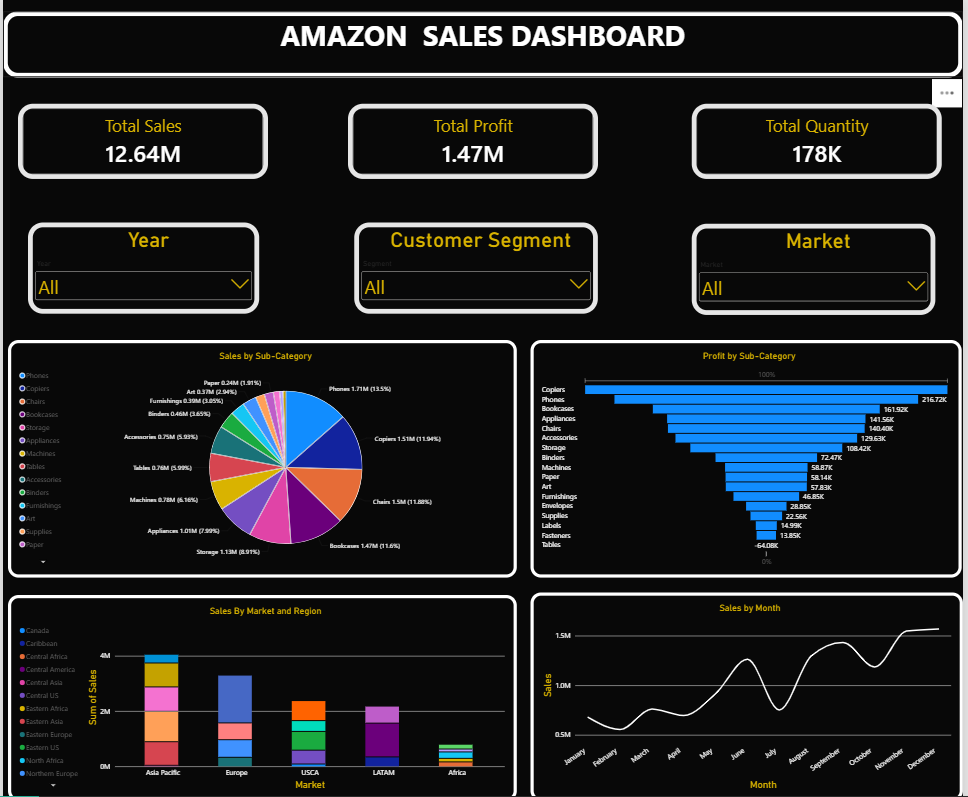

The dashboard page shown, as its layout file describes it:
{"tool":"powerbi","page":{"name":"Amazon Sales Analytics","canvas":[1920,3000],"ordinal":0},"visuals":[{"type":"textbox","box":[0,22.5,1920,132.5],"z":0},{"type":"columnChart","title":"Sales By Market and Region","fields":{"Category":["Orders.Market"],"Series":["Orders.Region"],"Y":["Sum(Orders.Sales)"]},"box":[10,1190,1017.5,412.5],"z":1},{"type":"pieChart","title":"Sales by Sub-Category","fields":{"Category":["Orders.Sub-Category"],"Y":["Sum(Orders.Sales)"]},"box":[10,680,1017.5,475],"z":2},{"type":"donutChart","title":"Quantity by Sub-Category","fields":{"Category":["Orders.Sub-Category"],"Y":["Sum(Orders.Quantity)"]},"box":[20,2070,1887.5,442.5],"z":3},{"type":"funnel","title":"Profit by Sub-Category","fields":{"Category":["Orders.Sub-Category"],"Y":["Sum(Orders.Profit)"]},"box":[1055,680,862.5,475],"z":4},{"type":"lineChart","title":"Sales by Month","fields":{"Category":["Orders.Order Date.Variation.Date Hierarchy.Month"],"Y":["Sum(Orders.Sales)"]},"box":[1055,1185,865,417.5],"z":5},{"type":"cardVisual","title":"Sales","fields":{"Data":["Sum(Orders.Sales)"]},"box":[30,207.5,500,150],"z":6},{"type":"cardVisual","title":"Sales","fields":{"Data":["Sum(Orders.Profit)"]},"box":[690,207.5,500,150],"z":7},{"type":"cardVisual","title":"Sales","fields":{"Data":["Sum(Orders.Quantity)"]},"box":[1377.5,207.5,500,150],"z":8},{"type":"slicer","title":"Year","fields":{"Values":["Orders.Order Date.Variation.Date Hierarchy.Year"]},"box":[50,445,462.5,182.5],"z":9},{"type":"columnChart","title":"Shipping Cost by Ship Mode","fields":{"Category":["Orders.Ship Mode"],"Y":["Sum(Orders.Shipping Cost)"]},"box":[10,1622.5,1017.5,417.5],"z":10},{"type":"donutChart","title":"Profit by Segment","fields":{"Category":["Orders.Segment"],"Y":["Sum(Orders.Profit)"]},"box":[1068.3,1623.3,840,418.3],"z":11},{"type":"slicer","title":"Customer Segment","fields":{"Values":["Orders.Segment"]},"box":[702.5,445,487.5,182.5],"z":13},{"type":"tableEx","fields":{"Values":["Orders.Order ID","Orders.Order Date.Variation.Date Hierarchy.Year","Orders.Order Date.Variation.Date Hierarchy.Quarter","Orders.Order Date.Variation.Date Hierarchy.Month","Orders.Order Date.Variation.Date Hierarchy.Day","Orders.Customer Name","Orders.Product Name","Orders.Sub-Category","Orders.Ship Mode","Orders.Segment","Orders.Market","Orders.Country"]},"box":[50,2531.7,1816.7,451.7],"z":14},{"type":"slicer","title":"Market","fields":{"Values":["Orders.Market"]},"box":[1377.5,447.5,487.5,182.5],"z":15}]}

Visuals, with their boxes on the page's 1920x3000 design canvas (x1, y1, x2, y2). These are canvas units, not pixel positions in the 968x797 screenshot, which may show the page scaled, cropped or inside an application window:
textbox: crop(0, 22, 1920, 155)
"Sales By Market and Region" columnChart: crop(10, 1190, 1028, 1602)
"Sales by Sub-Category" pieChart: crop(10, 680, 1028, 1155)
"Quantity by Sub-Category" donutChart: crop(20, 2070, 1908, 2512)
"Profit by Sub-Category" funnel: crop(1055, 680, 1918, 1155)
"Sales by Month" lineChart: crop(1055, 1185, 1920, 1602)
"Sales" cardVisual: crop(30, 208, 530, 358)
"Sales" cardVisual: crop(690, 208, 1190, 358)
"Sales" cardVisual: crop(1378, 208, 1878, 358)
"Year" slicer: crop(50, 445, 512, 628)
"Shipping Cost by Ship Mode" columnChart: crop(10, 1622, 1028, 2040)
"Profit by Segment" donutChart: crop(1068, 1623, 1908, 2042)
"Customer Segment" slicer: crop(702, 445, 1190, 628)
tableEx - Orders.Order ID x Orders.Order Date.Variation.Date Hierarchy.Year: crop(50, 2532, 1867, 2983)
"Market" slicer: crop(1378, 448, 1865, 630)
